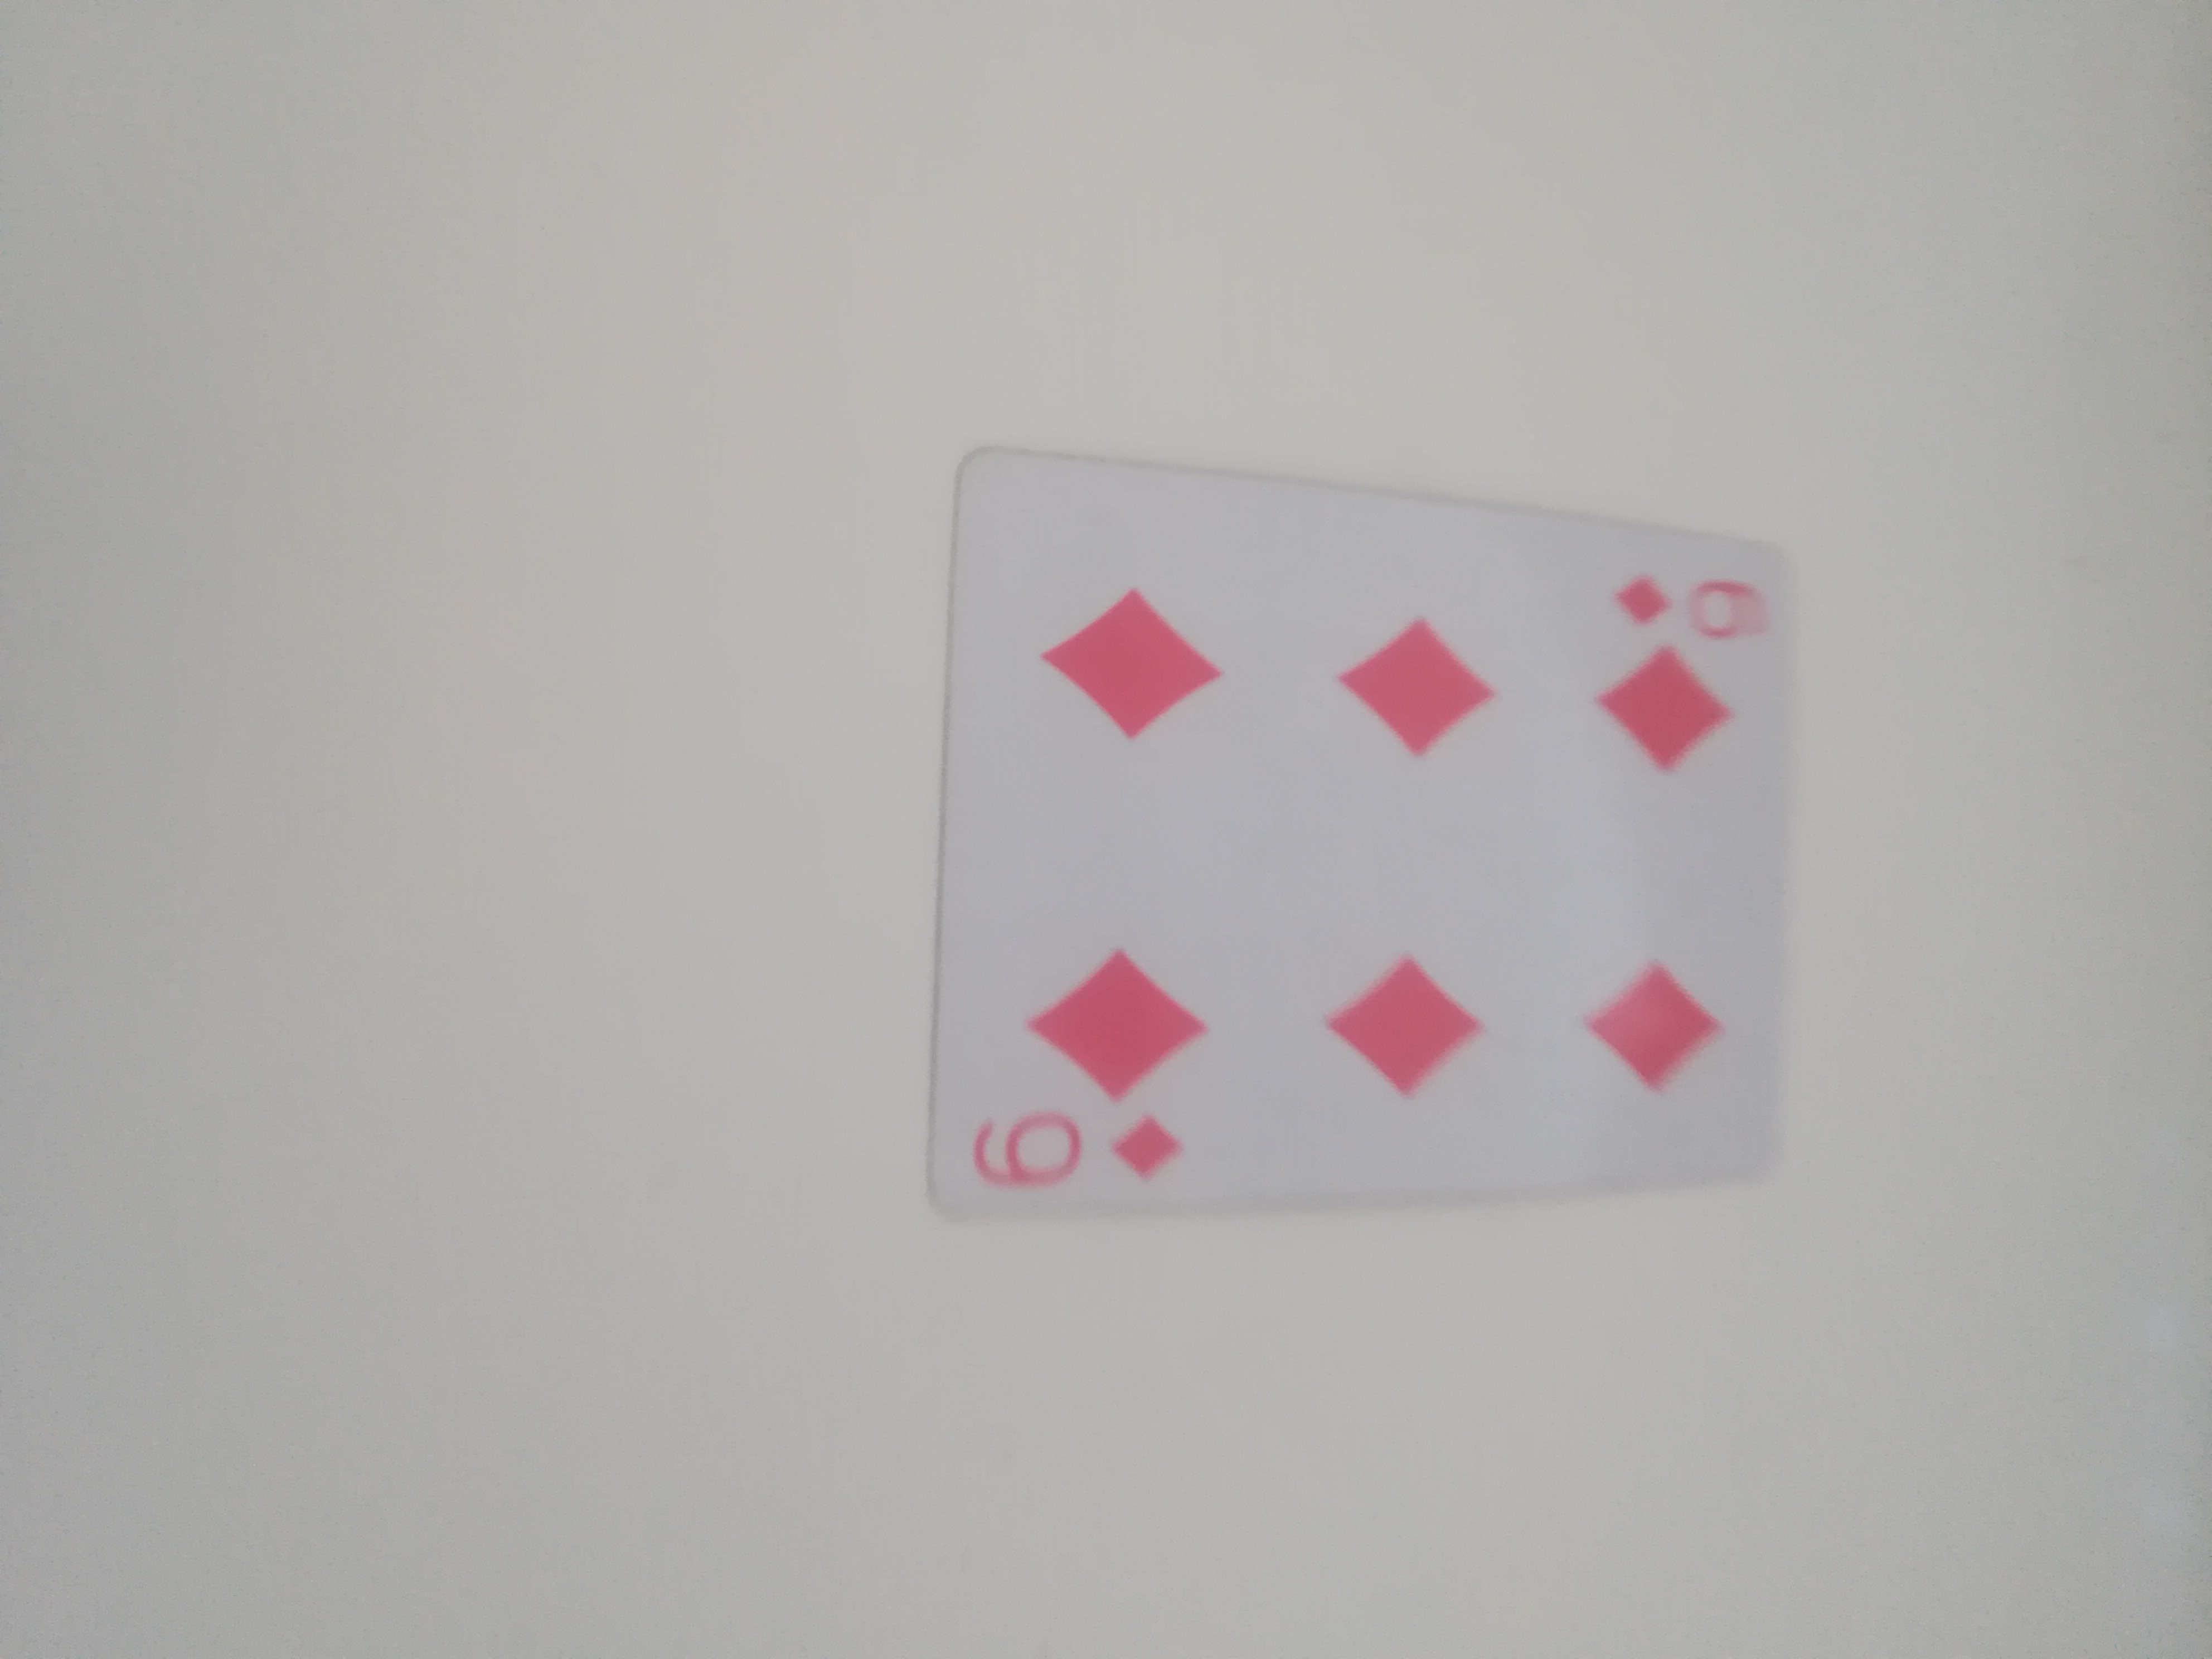6D: (923, 444, 1801, 1209)
